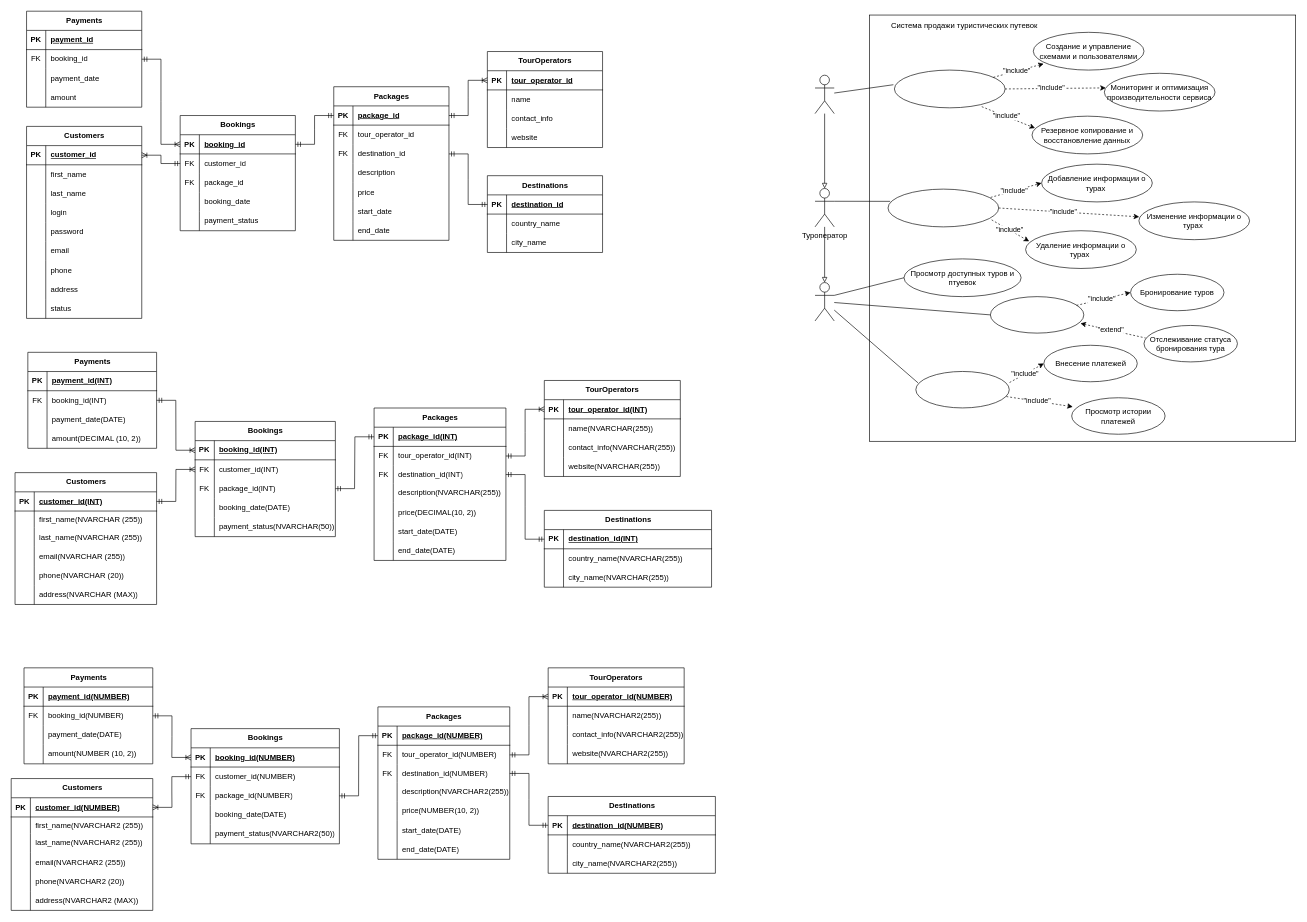
The diagram is 1307 pixels wide and 922 high, and some of its shapes have lost their labels. The centre of each missing label's shape, as x and y in pixels:
Администратор сервиса: pixel 824 94
Бронирование: pixel 1037 314
Платежи: pixel 962 389
Пользователь: pixel 824 301
Управление путевками: pixel 943 207
Управление сервисом: pixel 949 88
